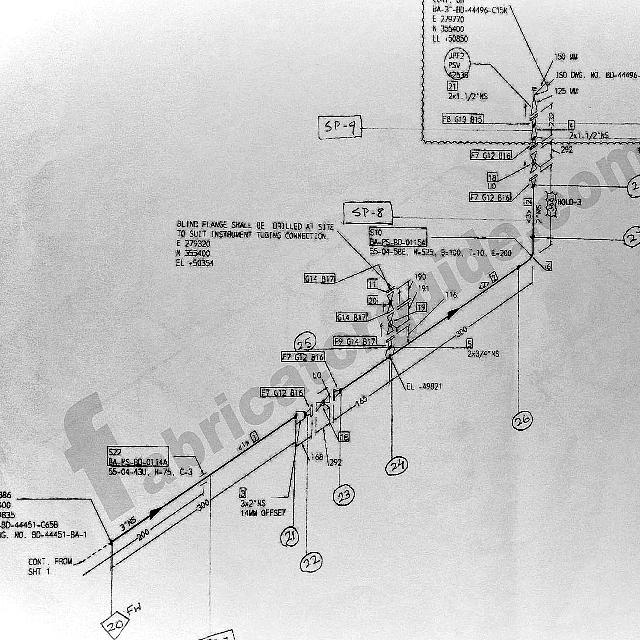Item number: (106, 445, 171, 468), (258, 386, 305, 399), (442, 112, 485, 126), (469, 190, 512, 204), (367, 277, 378, 291)
Measrement: (112, 479, 210, 568), (296, 408, 344, 470), (345, 371, 401, 413)
Weld number: (384, 454, 409, 479), (332, 484, 356, 509), (510, 408, 534, 433), (300, 550, 323, 575), (279, 525, 299, 550)
other: (173, 216, 334, 268), (428, 2, 496, 105), (1, 491, 85, 541), (25, 555, 75, 577), (238, 498, 288, 518), (468, 148, 516, 161)
